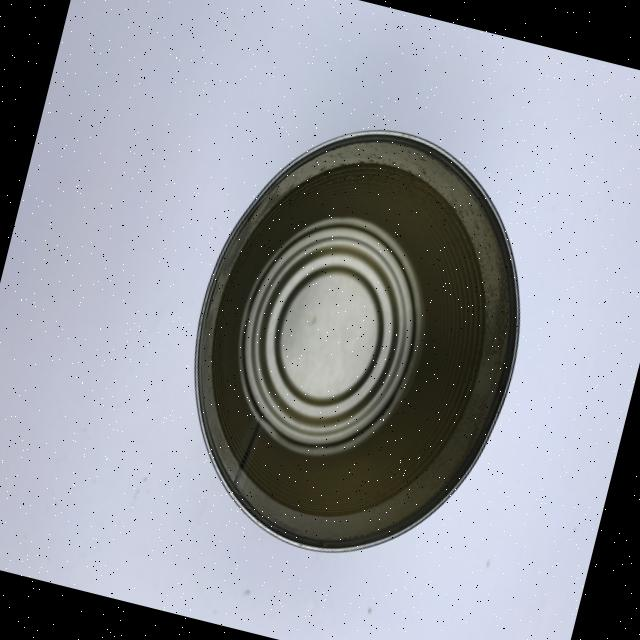metal: (151, 93, 564, 587)
